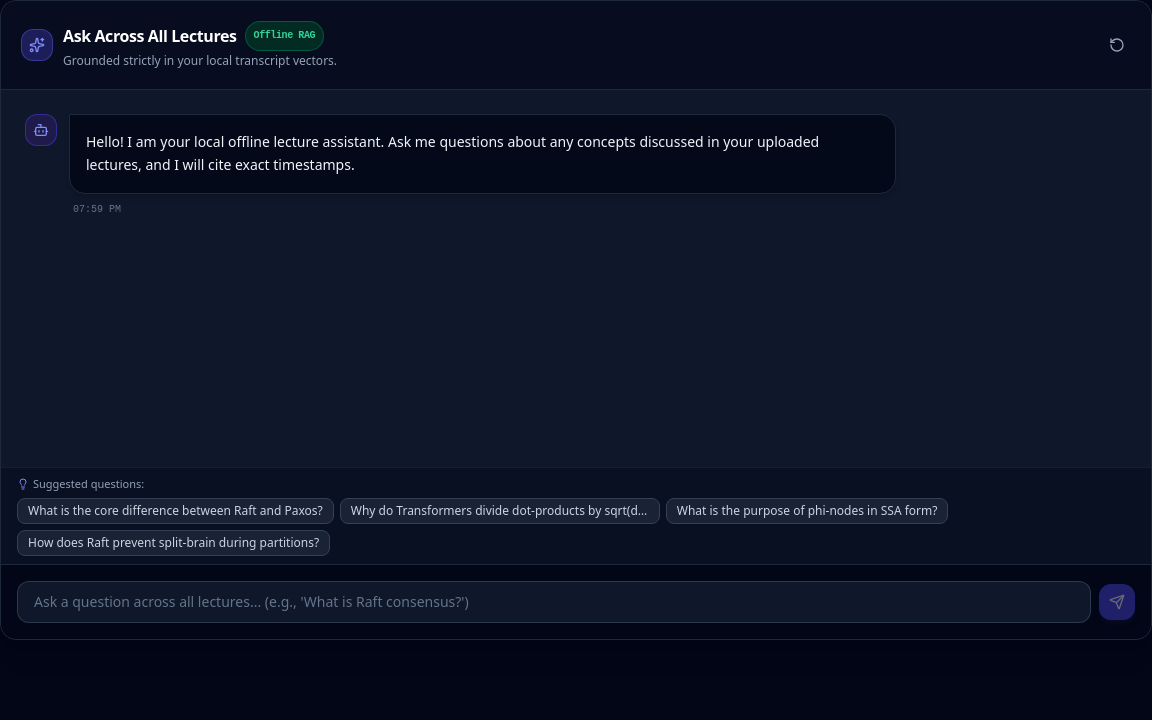
Test: AskPanel › renders chat interface and queries mock API
Replace the text in the field named "question prompt" with "What is Raft consensus?" at (554, 602), box [17, 581, 1091, 623]
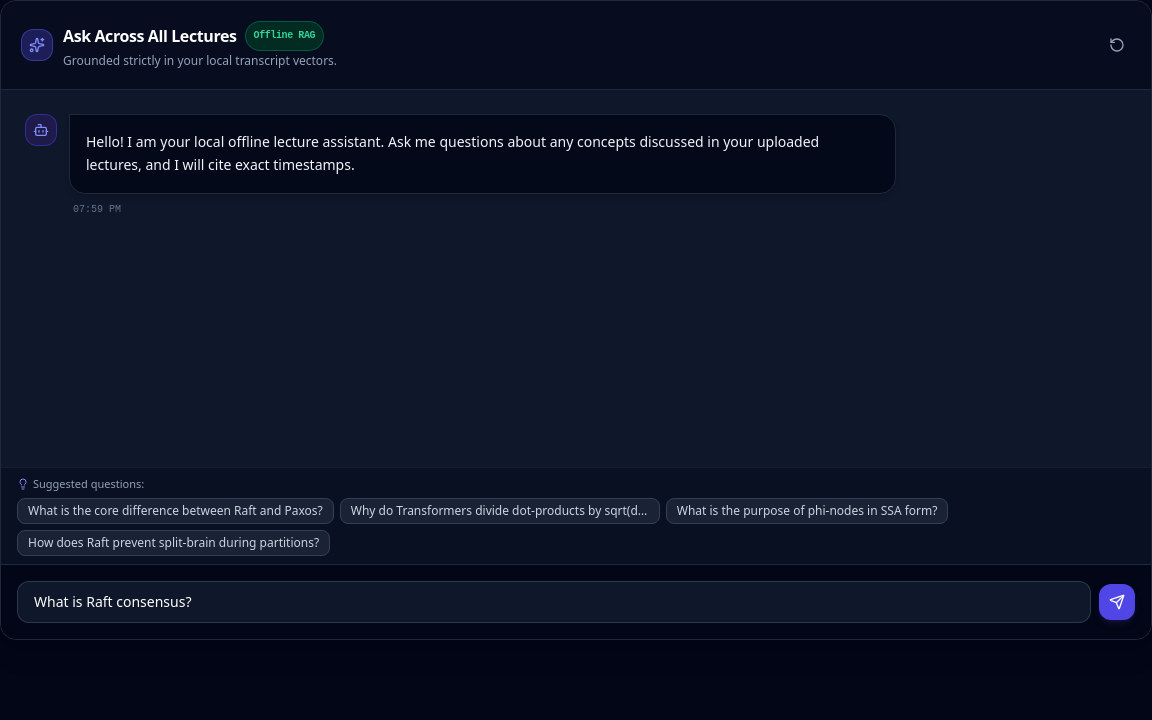
Click the button named "send query" at (1117, 602), box [1099, 584, 1135, 620]
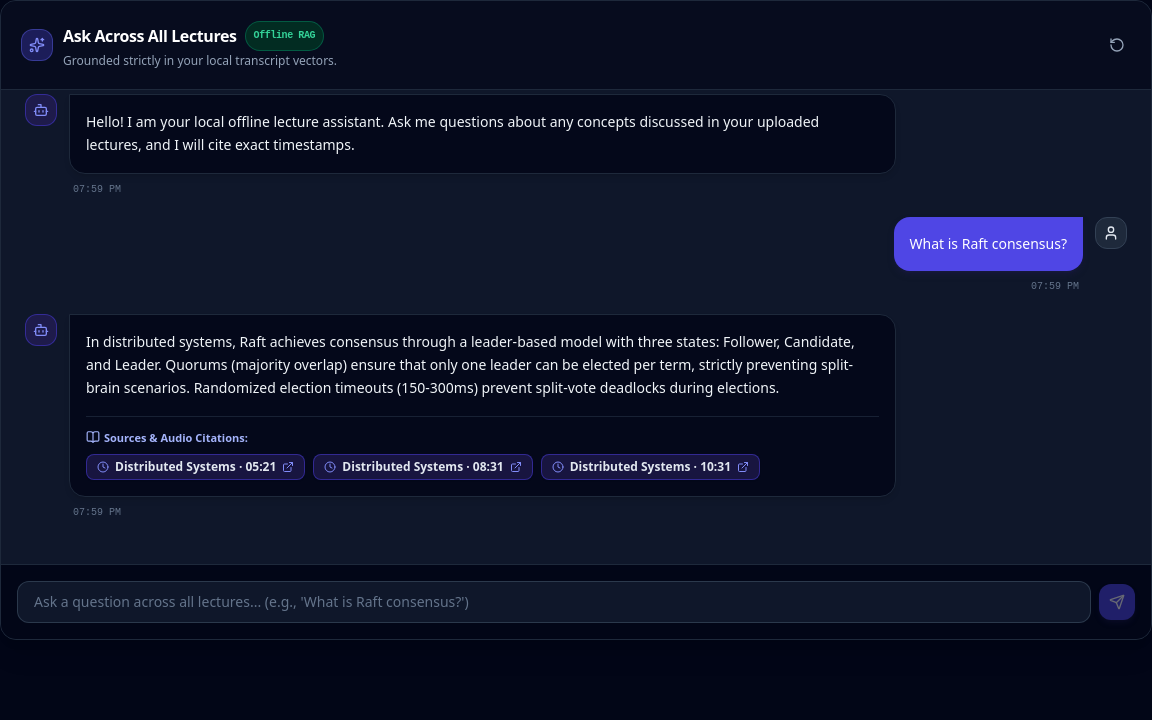
Expected: the text "Sources & Audio Citations:" is shown, [104, 428, 248, 446]
